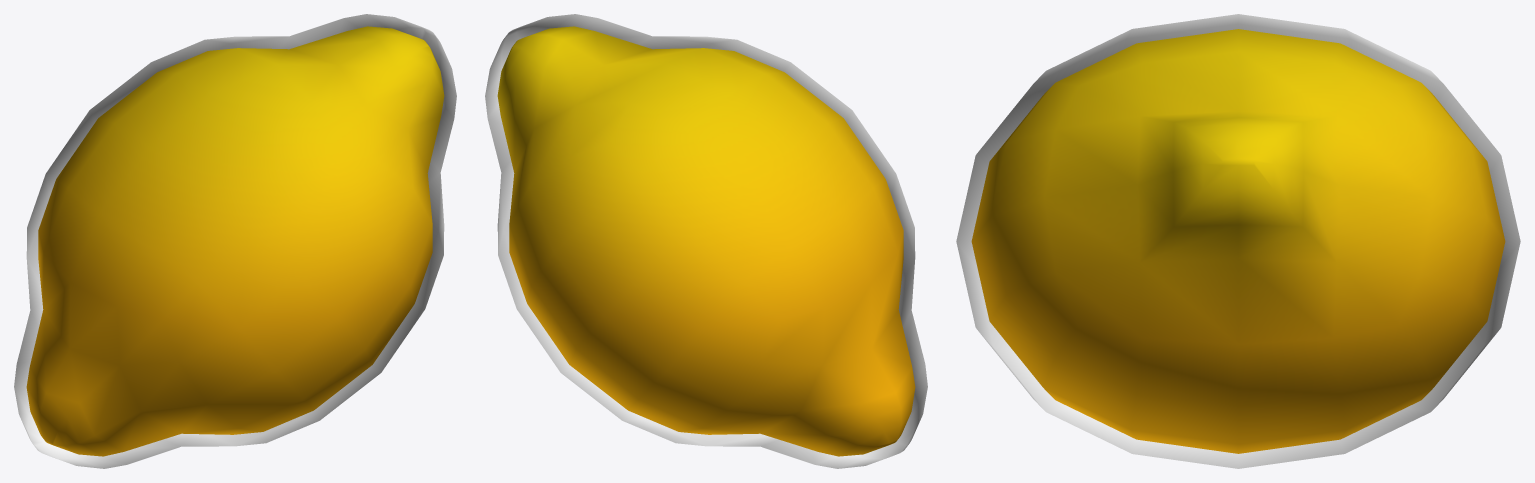
File: lemon.gltf
The picture shows the model from 3 angles, left to right: view 1: azimuth 30°, elevation 25°; view 2: azimuth 150°, elevation 25°; view 3: azimuth 270°, elevation 25°; orthographic projection. The views are drawn at different scales.
Visible parts, largest first — view 1: Lemon_Cube.006; view 2: Lemon_Cube.006; view 3: Lemon_Cube.006.
Part boxes in pixels (x1,y1,x2,y2): Lemon_Cube.006: [14, 14, 456, 468]; Lemon_Cube.006: [485, 14, 927, 468]; Lemon_Cube.006: [956, 14, 1520, 468].
Size of the model in its own units: 1.2 by 1 by 1.11.
Materials: 1 (1 with a texture image).
